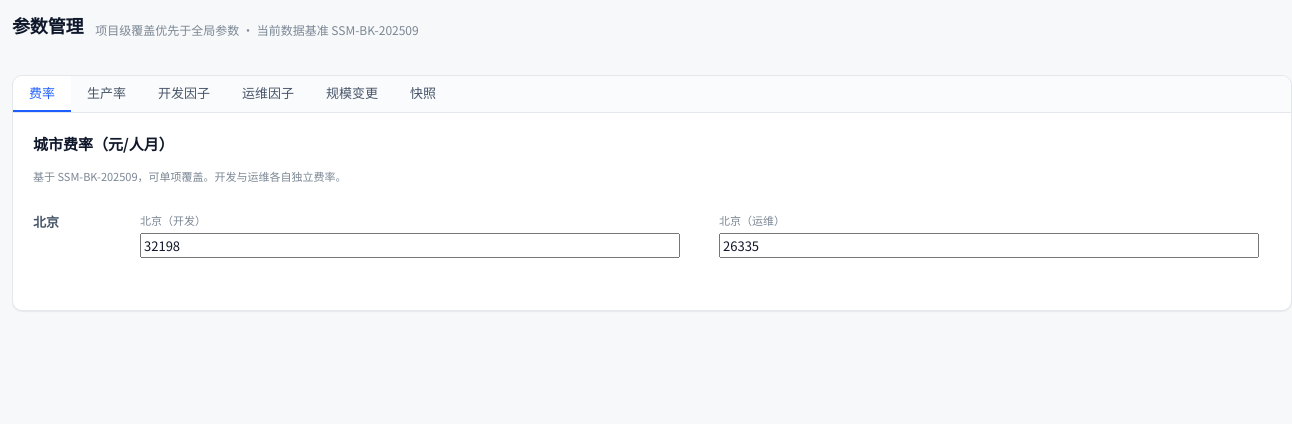
Test: ParamManager — 快照 tab (GAP-H) › 切到 snapshots tab → 调 snapshotsApi.list 并渲染快照行
This screenshot has width=1292, height=424.
What coordinates should you click on to do the following:
click the tab "快照"
I would click on:
 (423, 94)
Its box is [394,76,452,112].
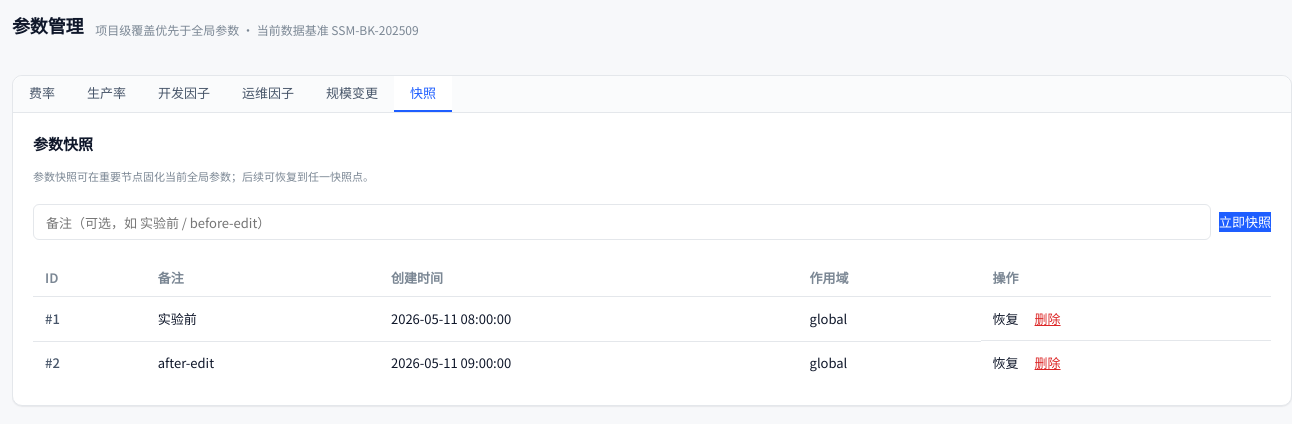
expect the text "实验前" is shown: met, box [146,296,379,341]
expect the text "after-edit" is shown: met, box [146,341,379,384]
